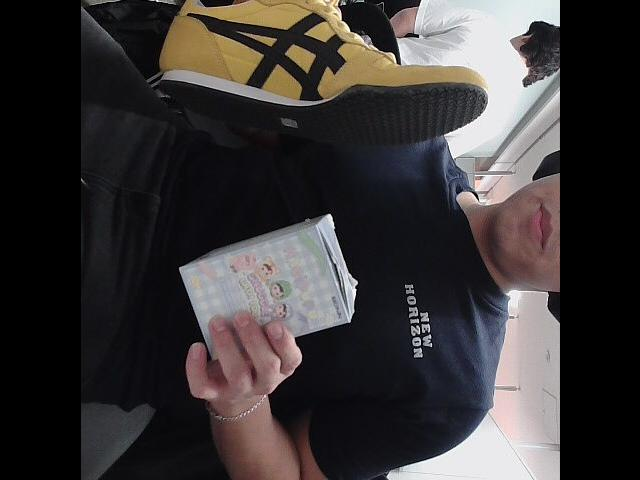Blind_box: (178, 219, 354, 369)
Shoes: (159, 0, 481, 150)
